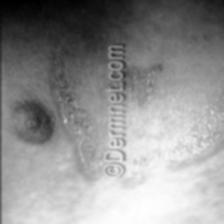Unclassified: (127, 48, 224, 191), (35, 62, 102, 196)
